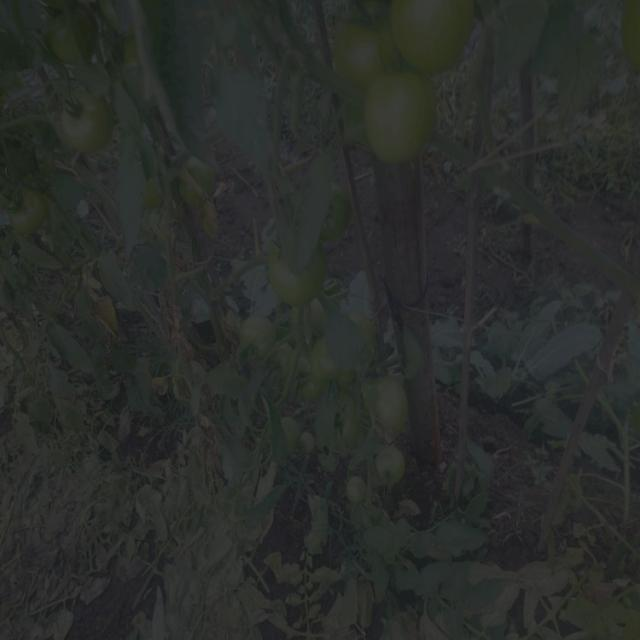tomato: (360, 76, 437, 158), (391, 2, 481, 70), (268, 232, 322, 302), (60, 90, 112, 150), (330, 23, 386, 74), (307, 339, 360, 391), (44, 13, 101, 60), (367, 375, 411, 435), (174, 162, 222, 213), (6, 182, 50, 233), (616, 2, 640, 86), (322, 183, 353, 239), (233, 317, 273, 360), (326, 398, 359, 450), (353, 313, 385, 358), (374, 447, 411, 485), (291, 306, 329, 337), (135, 171, 165, 210), (273, 415, 298, 446), (276, 344, 299, 377), (345, 479, 367, 505), (301, 433, 318, 453)
